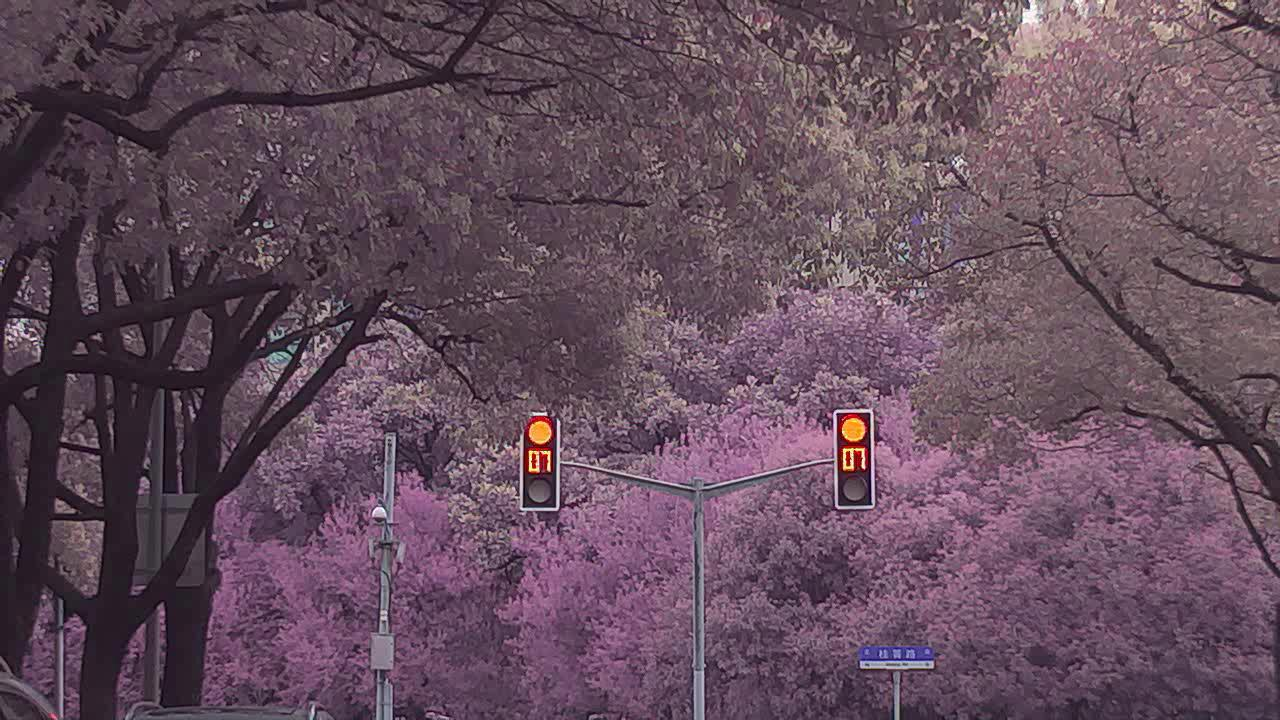traffic_light: (835, 411, 873, 511), (524, 412, 559, 511)
